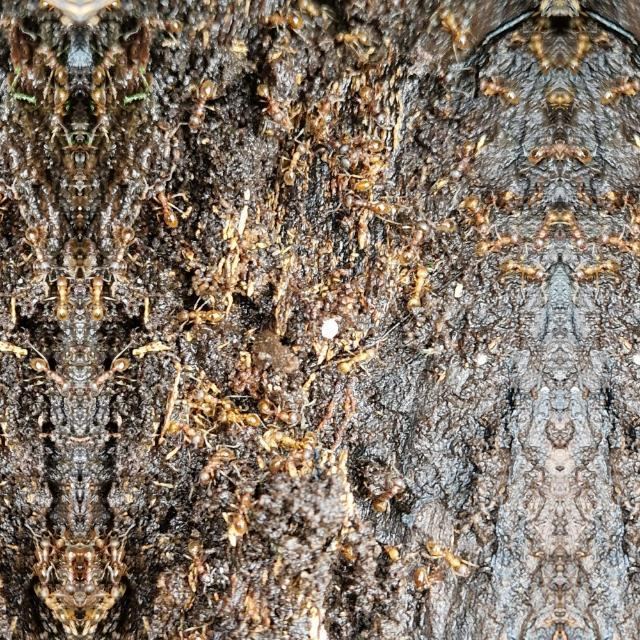Myrmica: (82, 347, 134, 401), (27, 347, 78, 401), (423, 530, 475, 582), (182, 74, 220, 134), (254, 80, 292, 130), (369, 471, 408, 517), (164, 410, 208, 450), (85, 80, 116, 136), (150, 178, 182, 232), (438, 4, 472, 54), (94, 37, 130, 84), (30, 37, 66, 84), (306, 87, 346, 129), (44, 80, 74, 136), (264, 444, 314, 476), (333, 344, 381, 376), (227, 484, 256, 536), (194, 447, 228, 491), (448, 136, 479, 184), (398, 218, 430, 264), (355, 81, 387, 127), (106, 225, 138, 271), (22, 225, 54, 271), (402, 261, 430, 313), (529, 206, 559, 254), (258, 0, 306, 30), (344, 188, 392, 218), (561, 206, 591, 254), (479, 74, 523, 106), (596, 74, 640, 106), (184, 534, 212, 584), (86, 266, 110, 324), (266, 428, 324, 452), (50, 266, 74, 324), (92, 578, 125, 620), (526, 28, 554, 76), (566, 28, 594, 76), (36, 578, 68, 620), (598, 226, 640, 258), (106, 533, 130, 587), (30, 533, 54, 587), (259, 394, 299, 426), (478, 228, 520, 258), (278, 140, 304, 188), (356, 152, 392, 186), (341, 136, 382, 164), (334, 20, 372, 50), (410, 558, 446, 588), (466, 196, 494, 234), (192, 383, 236, 407), (136, 12, 188, 32), (528, 134, 560, 164), (516, 256, 548, 286), (560, 134, 592, 164), (572, 256, 604, 286), (170, 306, 223, 324), (409, 215, 459, 233), (306, 127, 346, 149), (84, 544, 98, 596), (62, 544, 76, 596), (624, 194, 640, 233), (296, 0, 326, 20), (334, 540, 362, 560), (0, 178, 10, 230), (0, 12, 24, 32), (543, 83, 559, 109), (561, 83, 577, 109), (384, 540, 402, 562), (97, 0, 123, 10), (37, 0, 63, 10)
